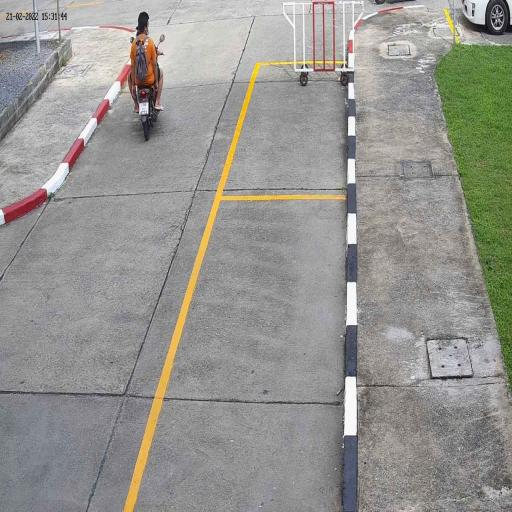motorcycle: (136, 82, 158, 144)
